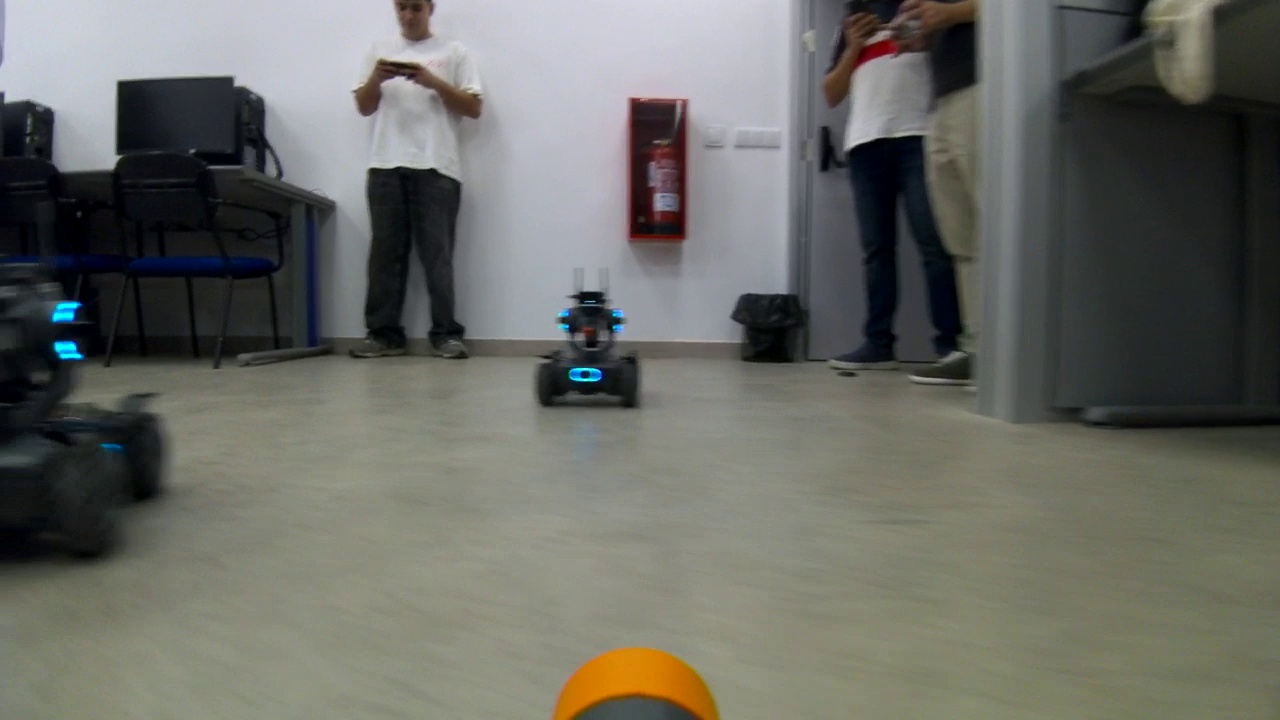robot: (526, 263, 645, 413)
